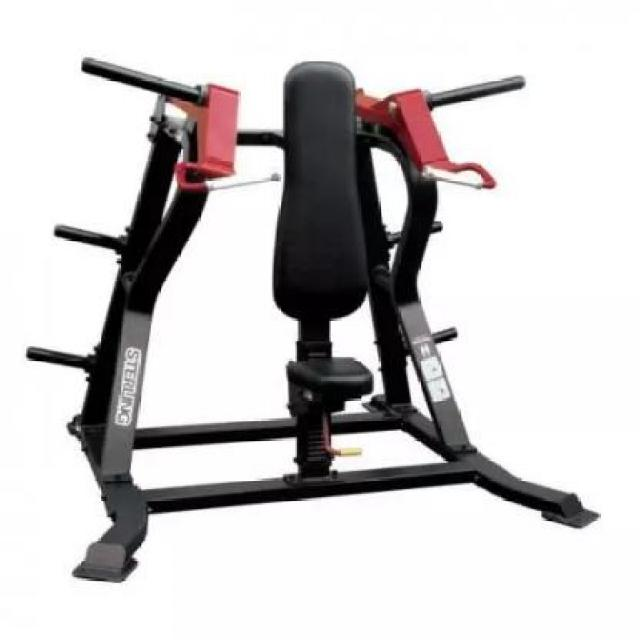shoulder press machine: (20, 40, 609, 622)
